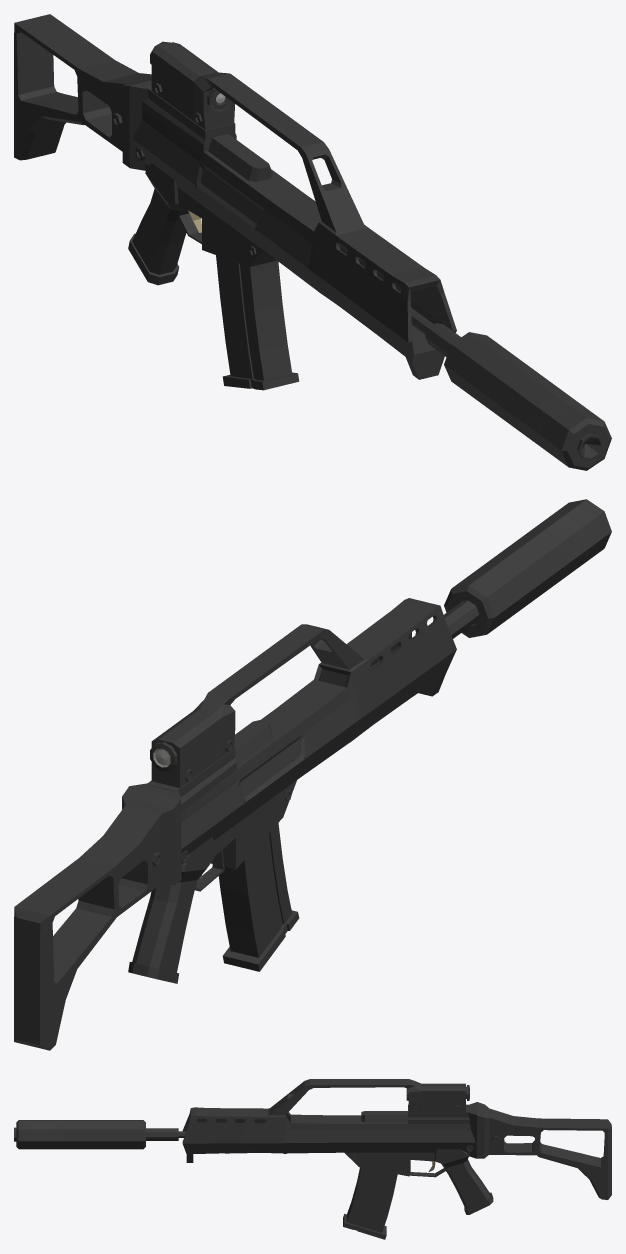
3 renders of one model, top to bottom at view 1: azimuth 30°, elevation 25°; view 2: azimuth 150°, elevation 25°; view 3: azimuth 270°, elevation 25°, orthographic. The views are drawn at different scales.
Parts seen in each view (by area): view 1: G36_Body, Silencer, Loader; view 2: G36_Body, Silencer, Loader; view 3: G36_Body, Silencer, Loader.
Boxes of the visible parts, x1=… form: G36_Body: x1=14, y1=14, x2=460, y2=379; Silencer: x1=444, y1=332, x2=611, y2=470; Loader: x1=216, y1=255, x2=299, y2=390; G36_Body: x1=14, y1=598, x2=479, y2=1050; Silencer: x1=444, y1=499, x2=611, y2=637; Loader: x1=218, y1=823, x2=299, y2=971; G36_Body: x1=146, y1=1079, x2=611, y2=1214; Silencer: x1=14, y1=1120, x2=145, y2=1149; Loader: x1=343, y1=1167, x2=397, y2=1239.
Bounding box in the file's own units: 14.47 × 76.98 × 272.
1 material, 1 textured.
